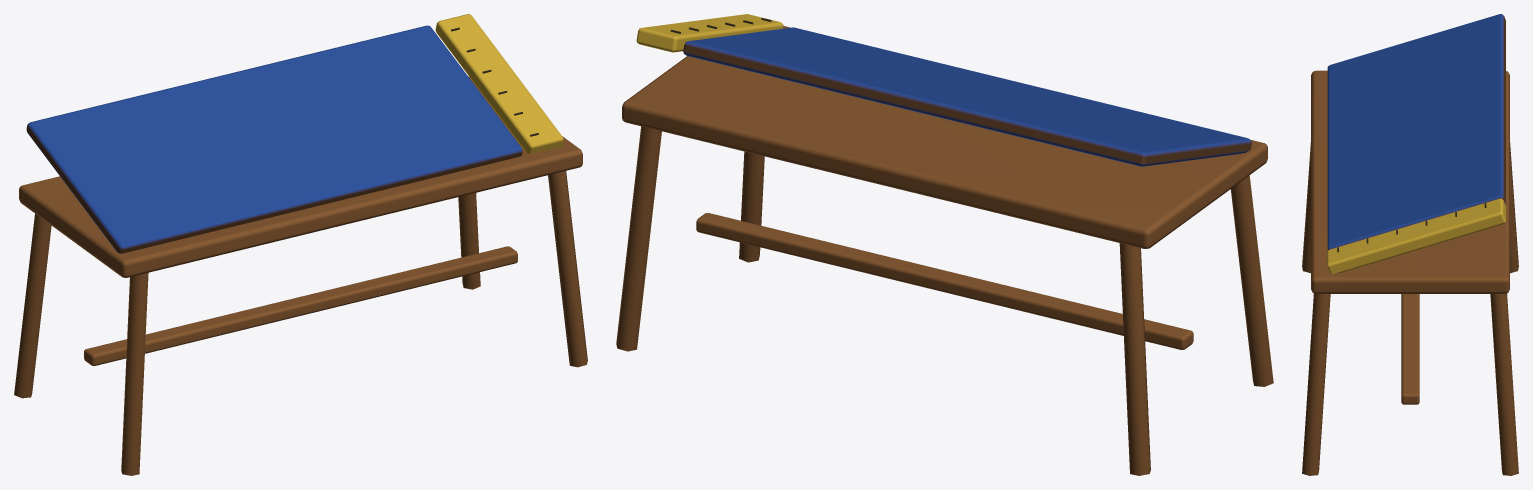
The model's file is furn_blueprint_table.glb.
3 renders of one model, left to right at view 1: azimuth 30°, elevation 25°; view 2: azimuth 150°, elevation 25°; view 3: azimuth 270°, elevation 25°, orthographic. The views are drawn at different scales.
Parts seen in each view (by area): view 1: furn_blueprint_table_main; view 2: furn_blueprint_table_main; view 3: furn_blueprint_table_main.
Boxes of the visible parts, x1=… form: furn_blueprint_table_main: x1=14, y1=14, x2=587, y2=475; furn_blueprint_table_main: x1=616, y1=14, x2=1273, y2=475; furn_blueprint_table_main: x1=1302, y1=14, x2=1518, y2=475.
Size of the model in its own units: 1.61 by 0.9177 by 0.6987.
